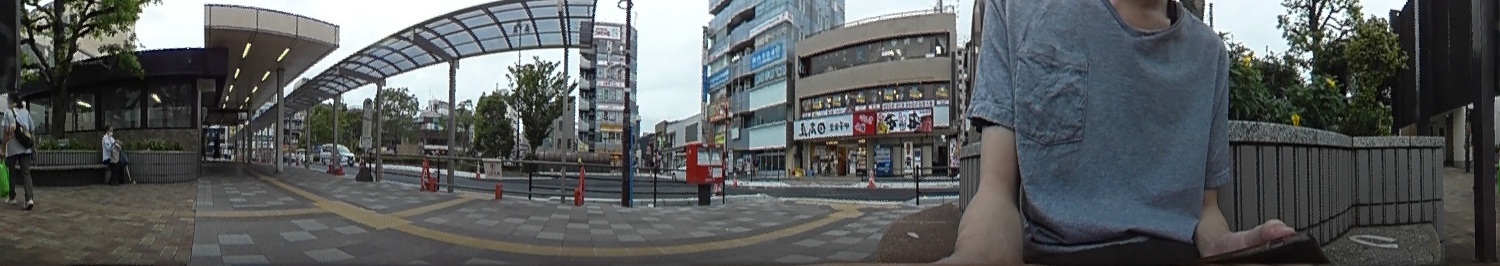difficult_person: (211, 127, 222, 161)
person: (2, 93, 36, 209), (97, 123, 132, 185)
